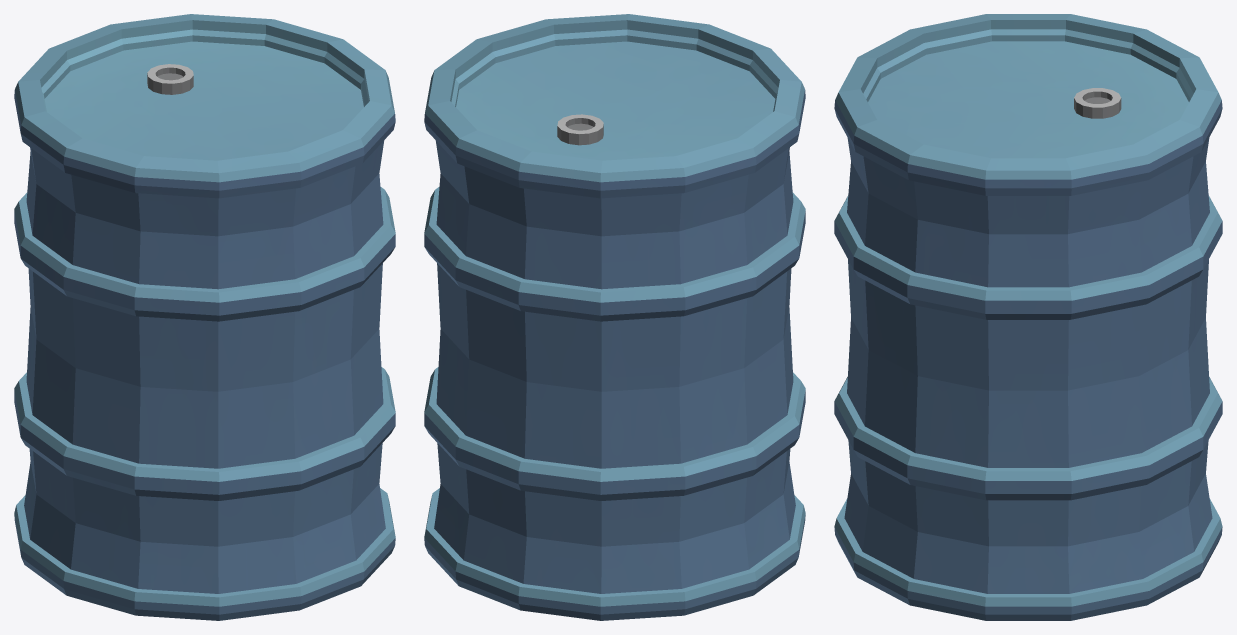
Rendered from barrel.glb.
The picture shows the model from 3 angles, left to right: view 1: azimuth 30°, elevation 25°; view 2: azimuth 150°, elevation 25°; view 3: azimuth 270°, elevation 25°; orthographic projection.
Visible parts, largest first — view 1: barrel; view 2: barrel; view 3: barrel.
Boxes of the visible parts, box(x1,y1,x2,y2) form: barrel: box(14, 14, 395, 620); barrel: box(424, 14, 805, 620); barrel: box(834, 14, 1222, 620).
Size of the model in its own units: 0.6817 by 0.9079 by 0.6992.
Materials: 1 (1 with a texture image).
